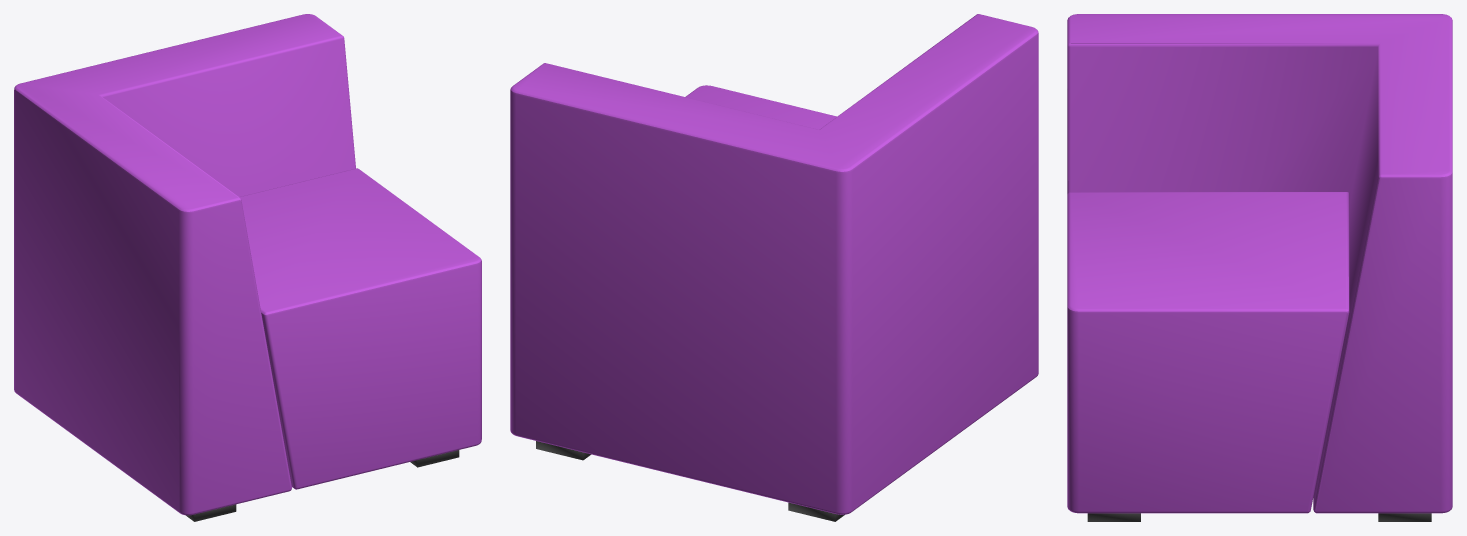
File: bit-tuoli.fbx
The picture shows the model from 3 angles, left to right: view 1: azimuth 30°, elevation 25°; view 2: azimuth 150°, elevation 25°; view 3: azimuth 270°, elevation 25°; orthographic projection. The views are drawn at different scales.
Parts seen in each view (by area): view 1: 342SK_upholstered_back, 342IK_upholstered_seat, 342_leg; view 2: 342SK_upholstered_back, 342IK_upholstered_seat, 342_leg; view 3: 342IK_upholstered_seat, 342SK_upholstered_back, 342_leg.
Boxes of the visible parts, x1,y1,x2,y2 form: 342SK_upholstered_back: (14,88,481,515); 342IK_upholstered_seat: (14,14,481,450); 342_leg: (186,450,459,521); 342SK_upholstered_back: (510,32,1038,514); 342IK_upholstered_seat: (510,14,1038,171); 342_leg: (536,441,844,521); 342IK_upholstered_seat: (1067,14,1452,510); 342SK_upholstered_back: (1067,20,1452,513); 342_leg: (1087,513,1431,521).
Bounding box in the file's own units: 650 × 661 × 650.
